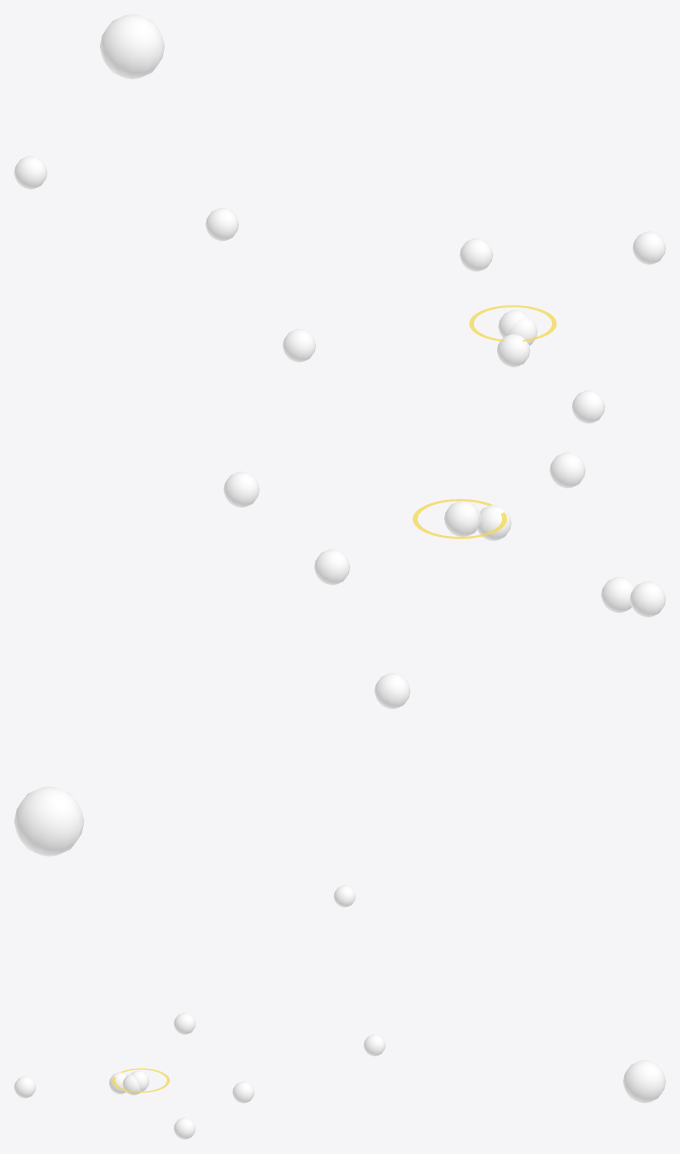
The picture shows the model from 3 angles, top to bottom: view 1: azimuth 30°, elevation 25°; view 2: azimuth 150°, elevation 25°; view 3: azimuth 270°, elevation 25°; orthographic projection. The views are drawn at different scales.
Size of the model in its own units: 6.53 by 1.95 by 10.59.
